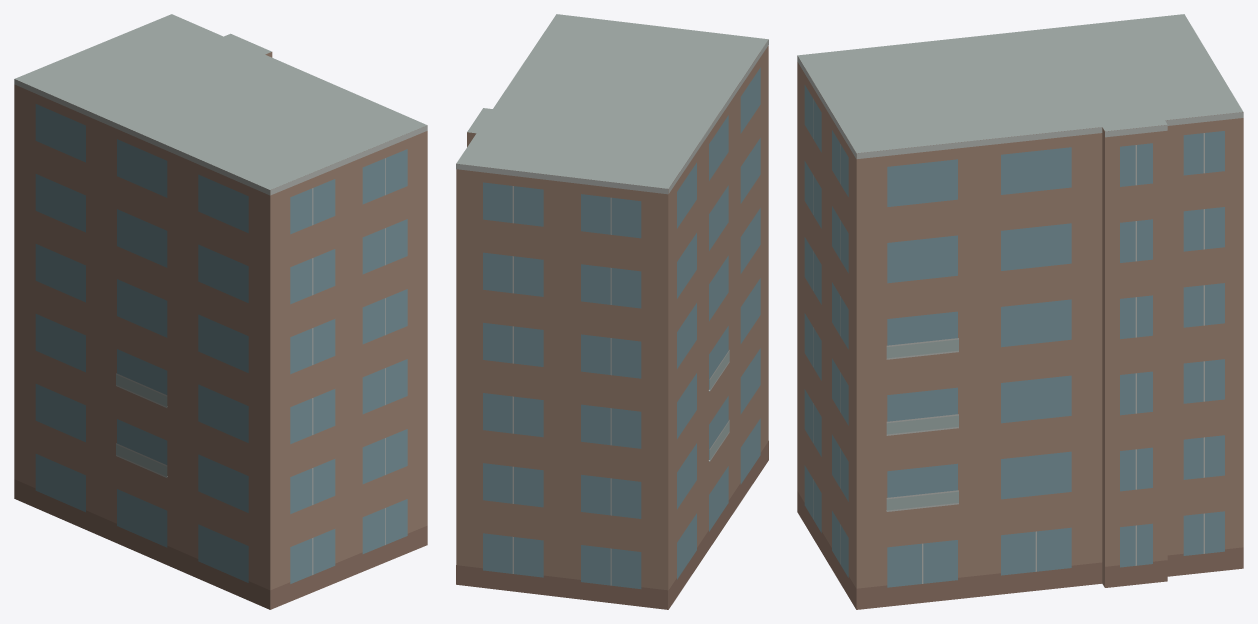
File: survey-upis-32597438.glb
3 renders of one model, left to right at view 1: azimuth 30°, elevation 25°; view 2: azimuth 150°, elevation 25°; view 3: azimuth 270°, elevation 25°, orthographic. The views are drawn at different scales.
Visible parts, largest first — view 1: survey-upis-32597438.tmp; view 2: survey-upis-32597438.tmp; view 3: survey-upis-32597438.tmp.
Part boxes in pixels (box(x1,y1,x2,y2)): survey-upis-32597438.tmp: box(14, 14, 427, 609); survey-upis-32597438.tmp: box(456, 14, 768, 609); survey-upis-32597438.tmp: box(797, 14, 1243, 609).
Size of the model in its own units: 12.26 by 18.73 by 16.6.
